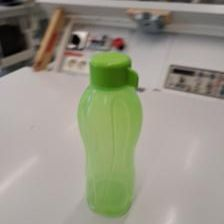bottle: (74, 49, 143, 212)
